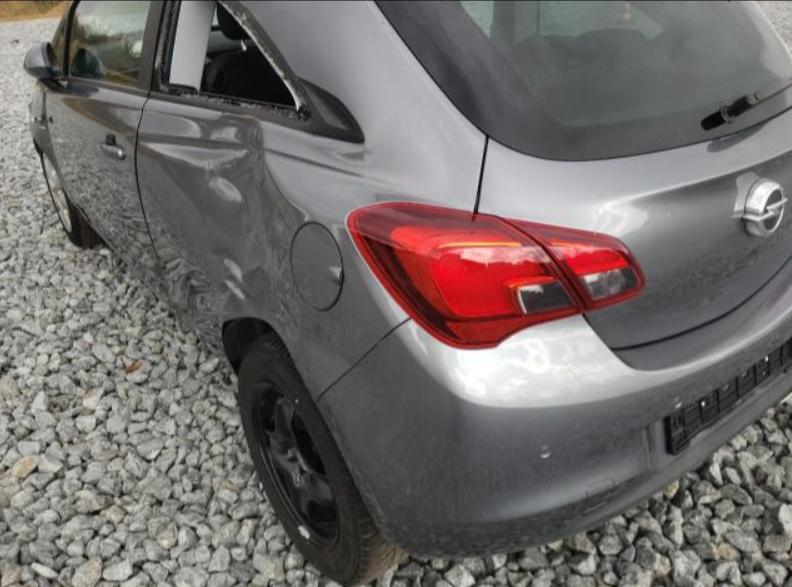Broken part: (152, 0, 317, 125)
Dent: (140, 114, 306, 357)
Missing part: (671, 336, 790, 446)
